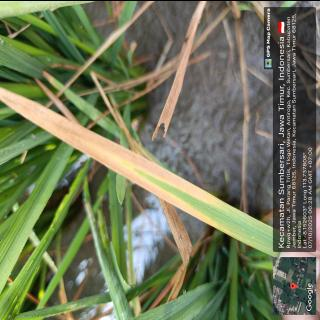Hawar-Daun: (0, 87, 219, 227)
